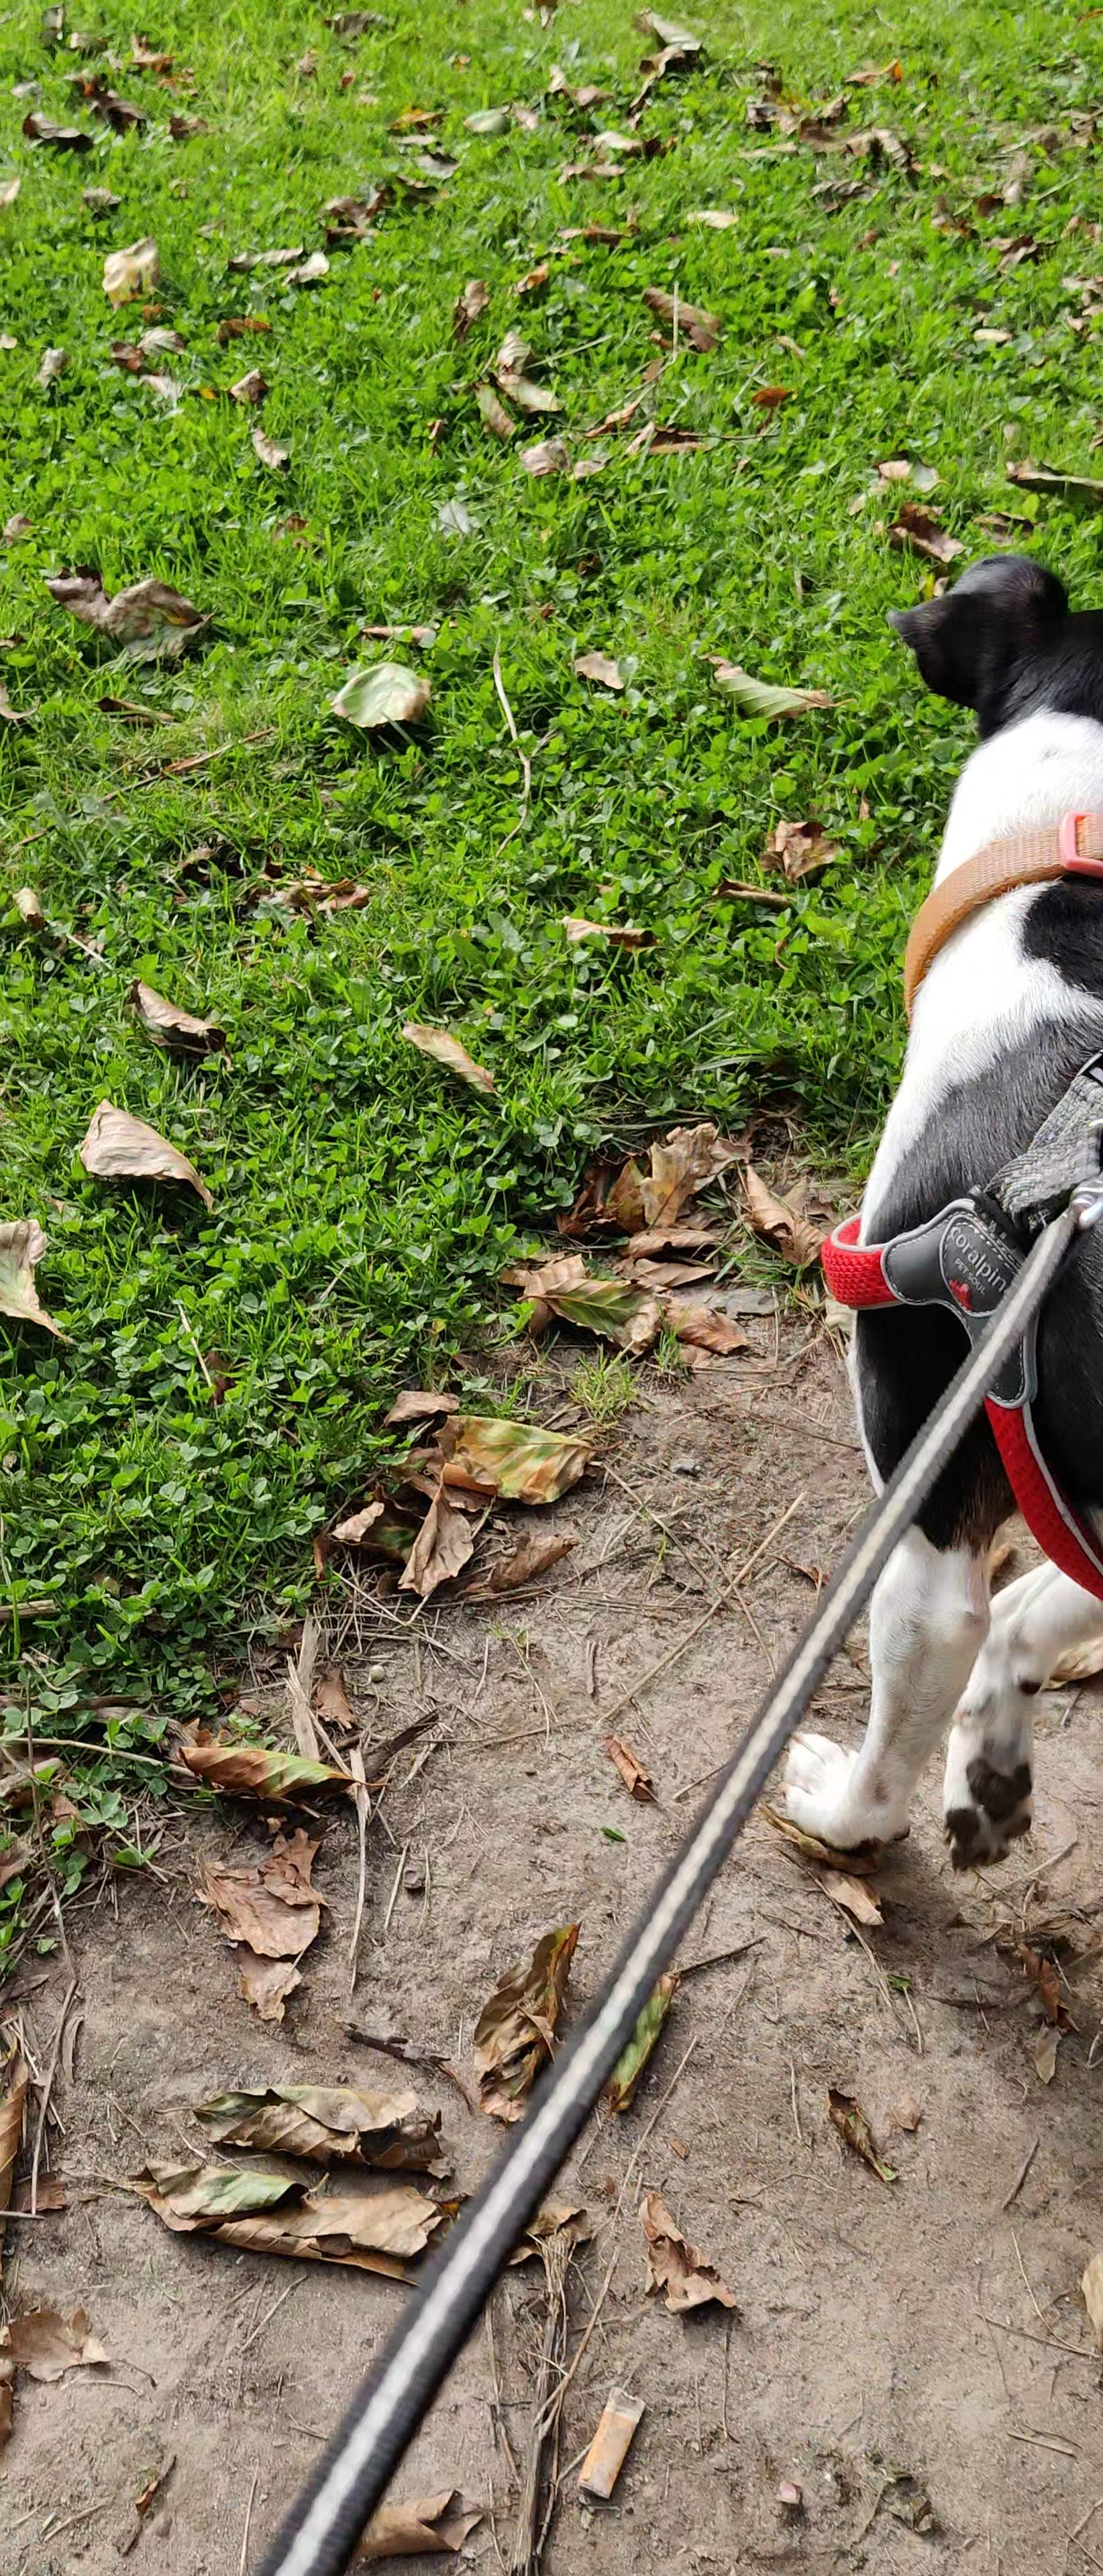Dog: (740, 527, 1103, 1953)
